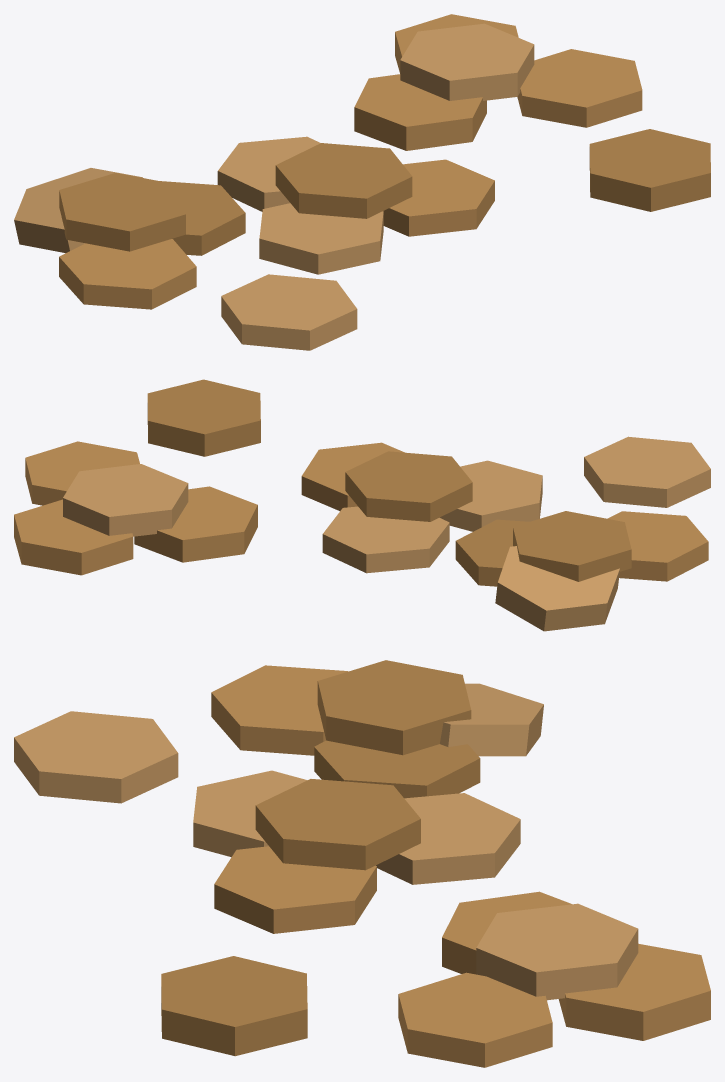
Rendered from Prop_Coin_Pile_01.glb.
3 renders of one model, top to bottom at view 1: azimuth 30°, elevation 25°; view 2: azimuth 150°, elevation 25°; view 3: azimuth 270°, elevation 25°, orthographic. The views are drawn at different scales.
Parts seen in each view (by area): view 1: SM_Gen_Prop_Coin_Pile_01; view 2: SM_Gen_Prop_Coin_Pile_01; view 3: SM_Gen_Prop_Coin_Pile_01.
Boxes of the visible parts, box(x1,y1,x2,y2) form: SM_Gen_Prop_Coin_Pile_01: box(14, 14, 710, 350); SM_Gen_Prop_Coin_Pile_01: box(14, 379, 710, 631); SM_Gen_Prop_Coin_Pile_01: box(14, 660, 710, 1067).
Size of the model in its own units: 0.6567 by 0.0493 by 0.5116.
Materials: 1 (1 with a texture image).
